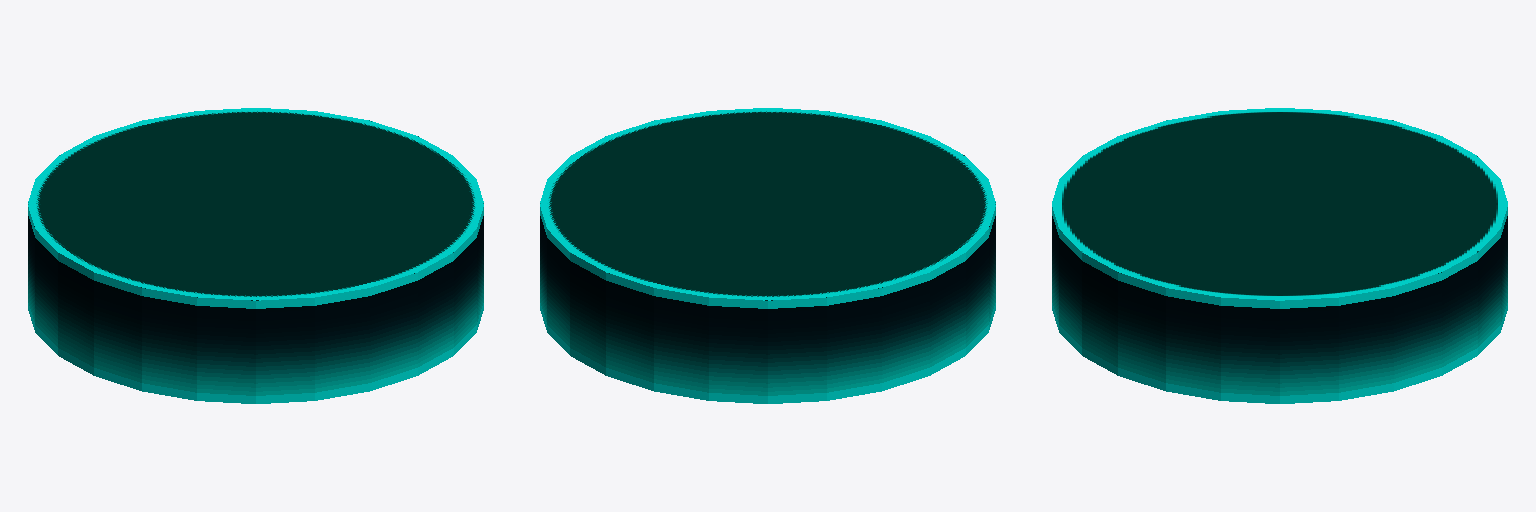
3 renders of one model, left to right at view 1: azimuth 30°, elevation 25°; view 2: azimuth 150°, elevation 25°; view 3: azimuth 270°, elevation 25°, orthographic.
Visible parts, largest first — view 1: Mesh1 Model; view 2: Mesh1 Model; view 3: Mesh1 Model.
Boxes of the visible parts, x1,y1,x2,y2 form: Mesh1 Model: [28, 108, 483, 403]; Mesh1 Model: [540, 108, 995, 403]; Mesh1 Model: [1052, 108, 1507, 403].
Size of the model in its own units: 100 by 25 by 100.
Materials: 2 (2 with a texture image).